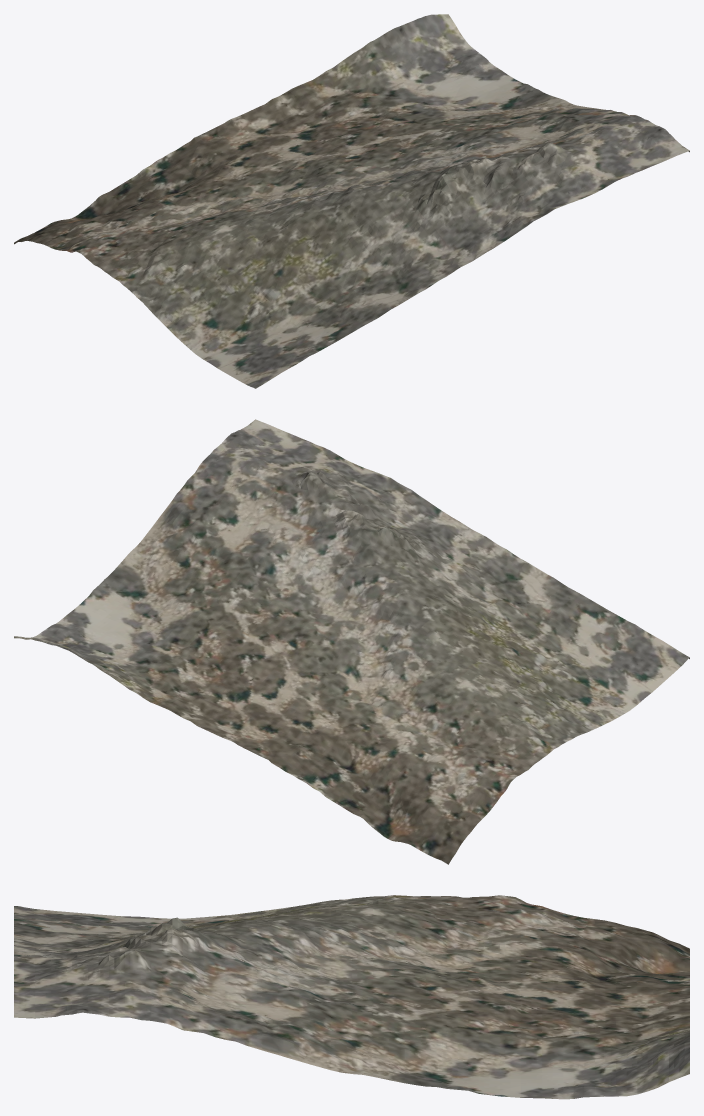
3 views of the same model, one above another, from view 1: azimuth 30°, elevation 25°; view 2: azimuth 150°, elevation 25°; view 3: azimuth 270°, elevation 25° (orthographic). The views are drawn at different scales.
Size of the model in its own units: 250 by 92.59 by 241.
Materials: 1 (1 with a texture image).
